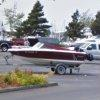Boat: (5, 35, 90, 82)
